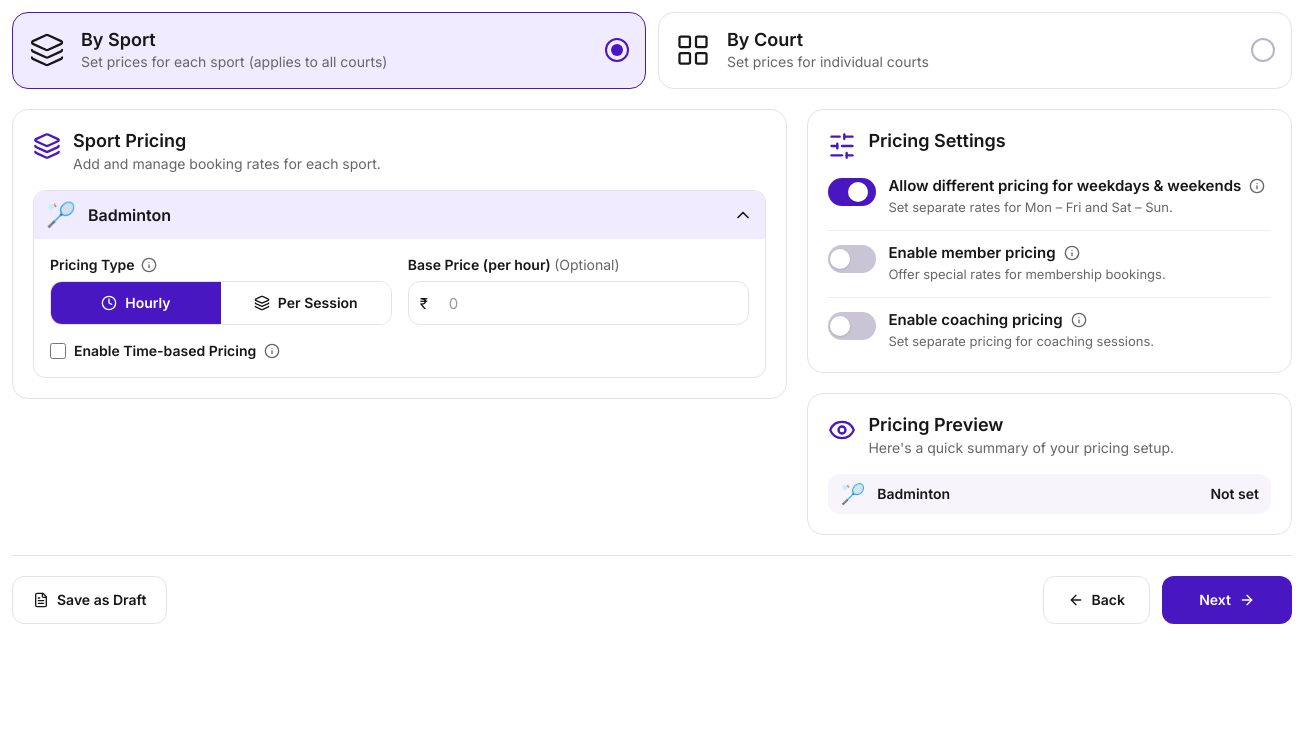
Test case: PricingSetupForm › switching to By Court shows the court list and that court's editor
Click the radio button labelled "By Court Set prices for individual courts". click: click(693, 50)
box: [658,12,1292,88]
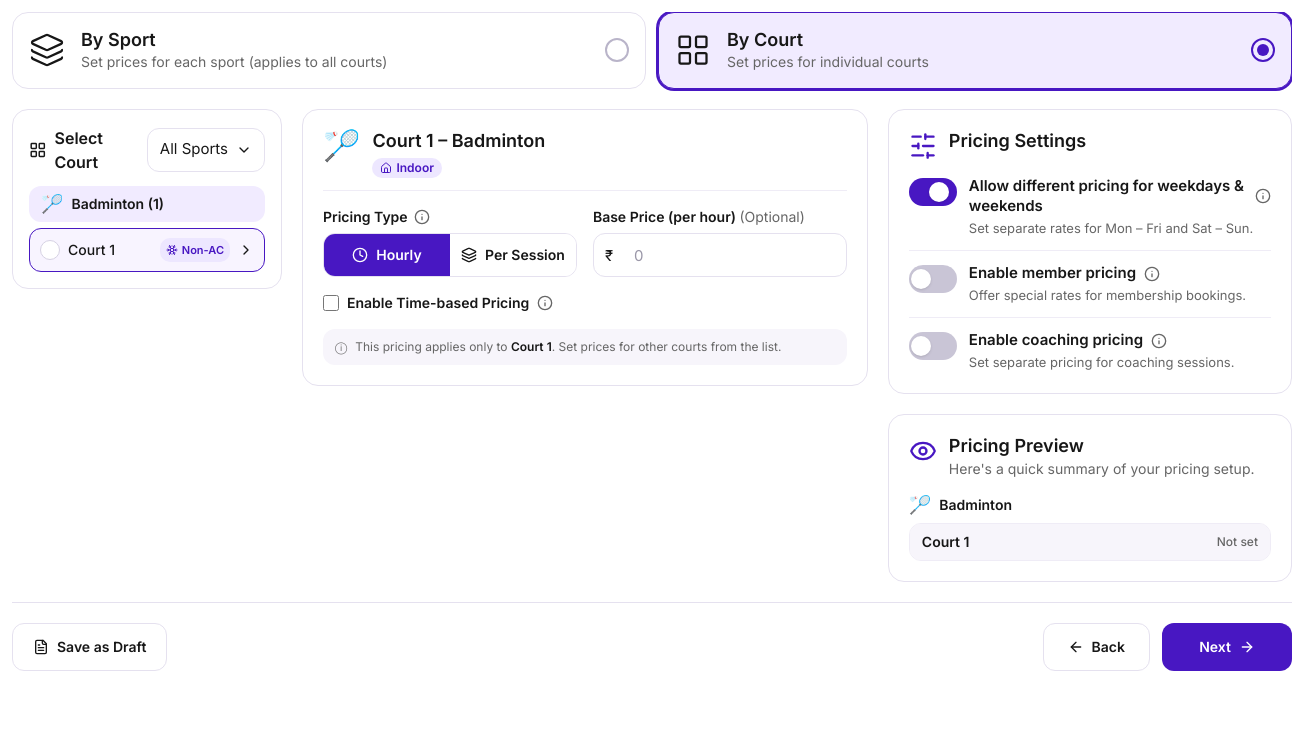
expect the heading "Select Court" is shown: met, box [29,128,103,172]
expect the text "This pricing applies only to" is shown: met, box [355,339,511,354]
expect the text "Court 1" below "Select Court" is shown: met, box [68,240,115,258]
